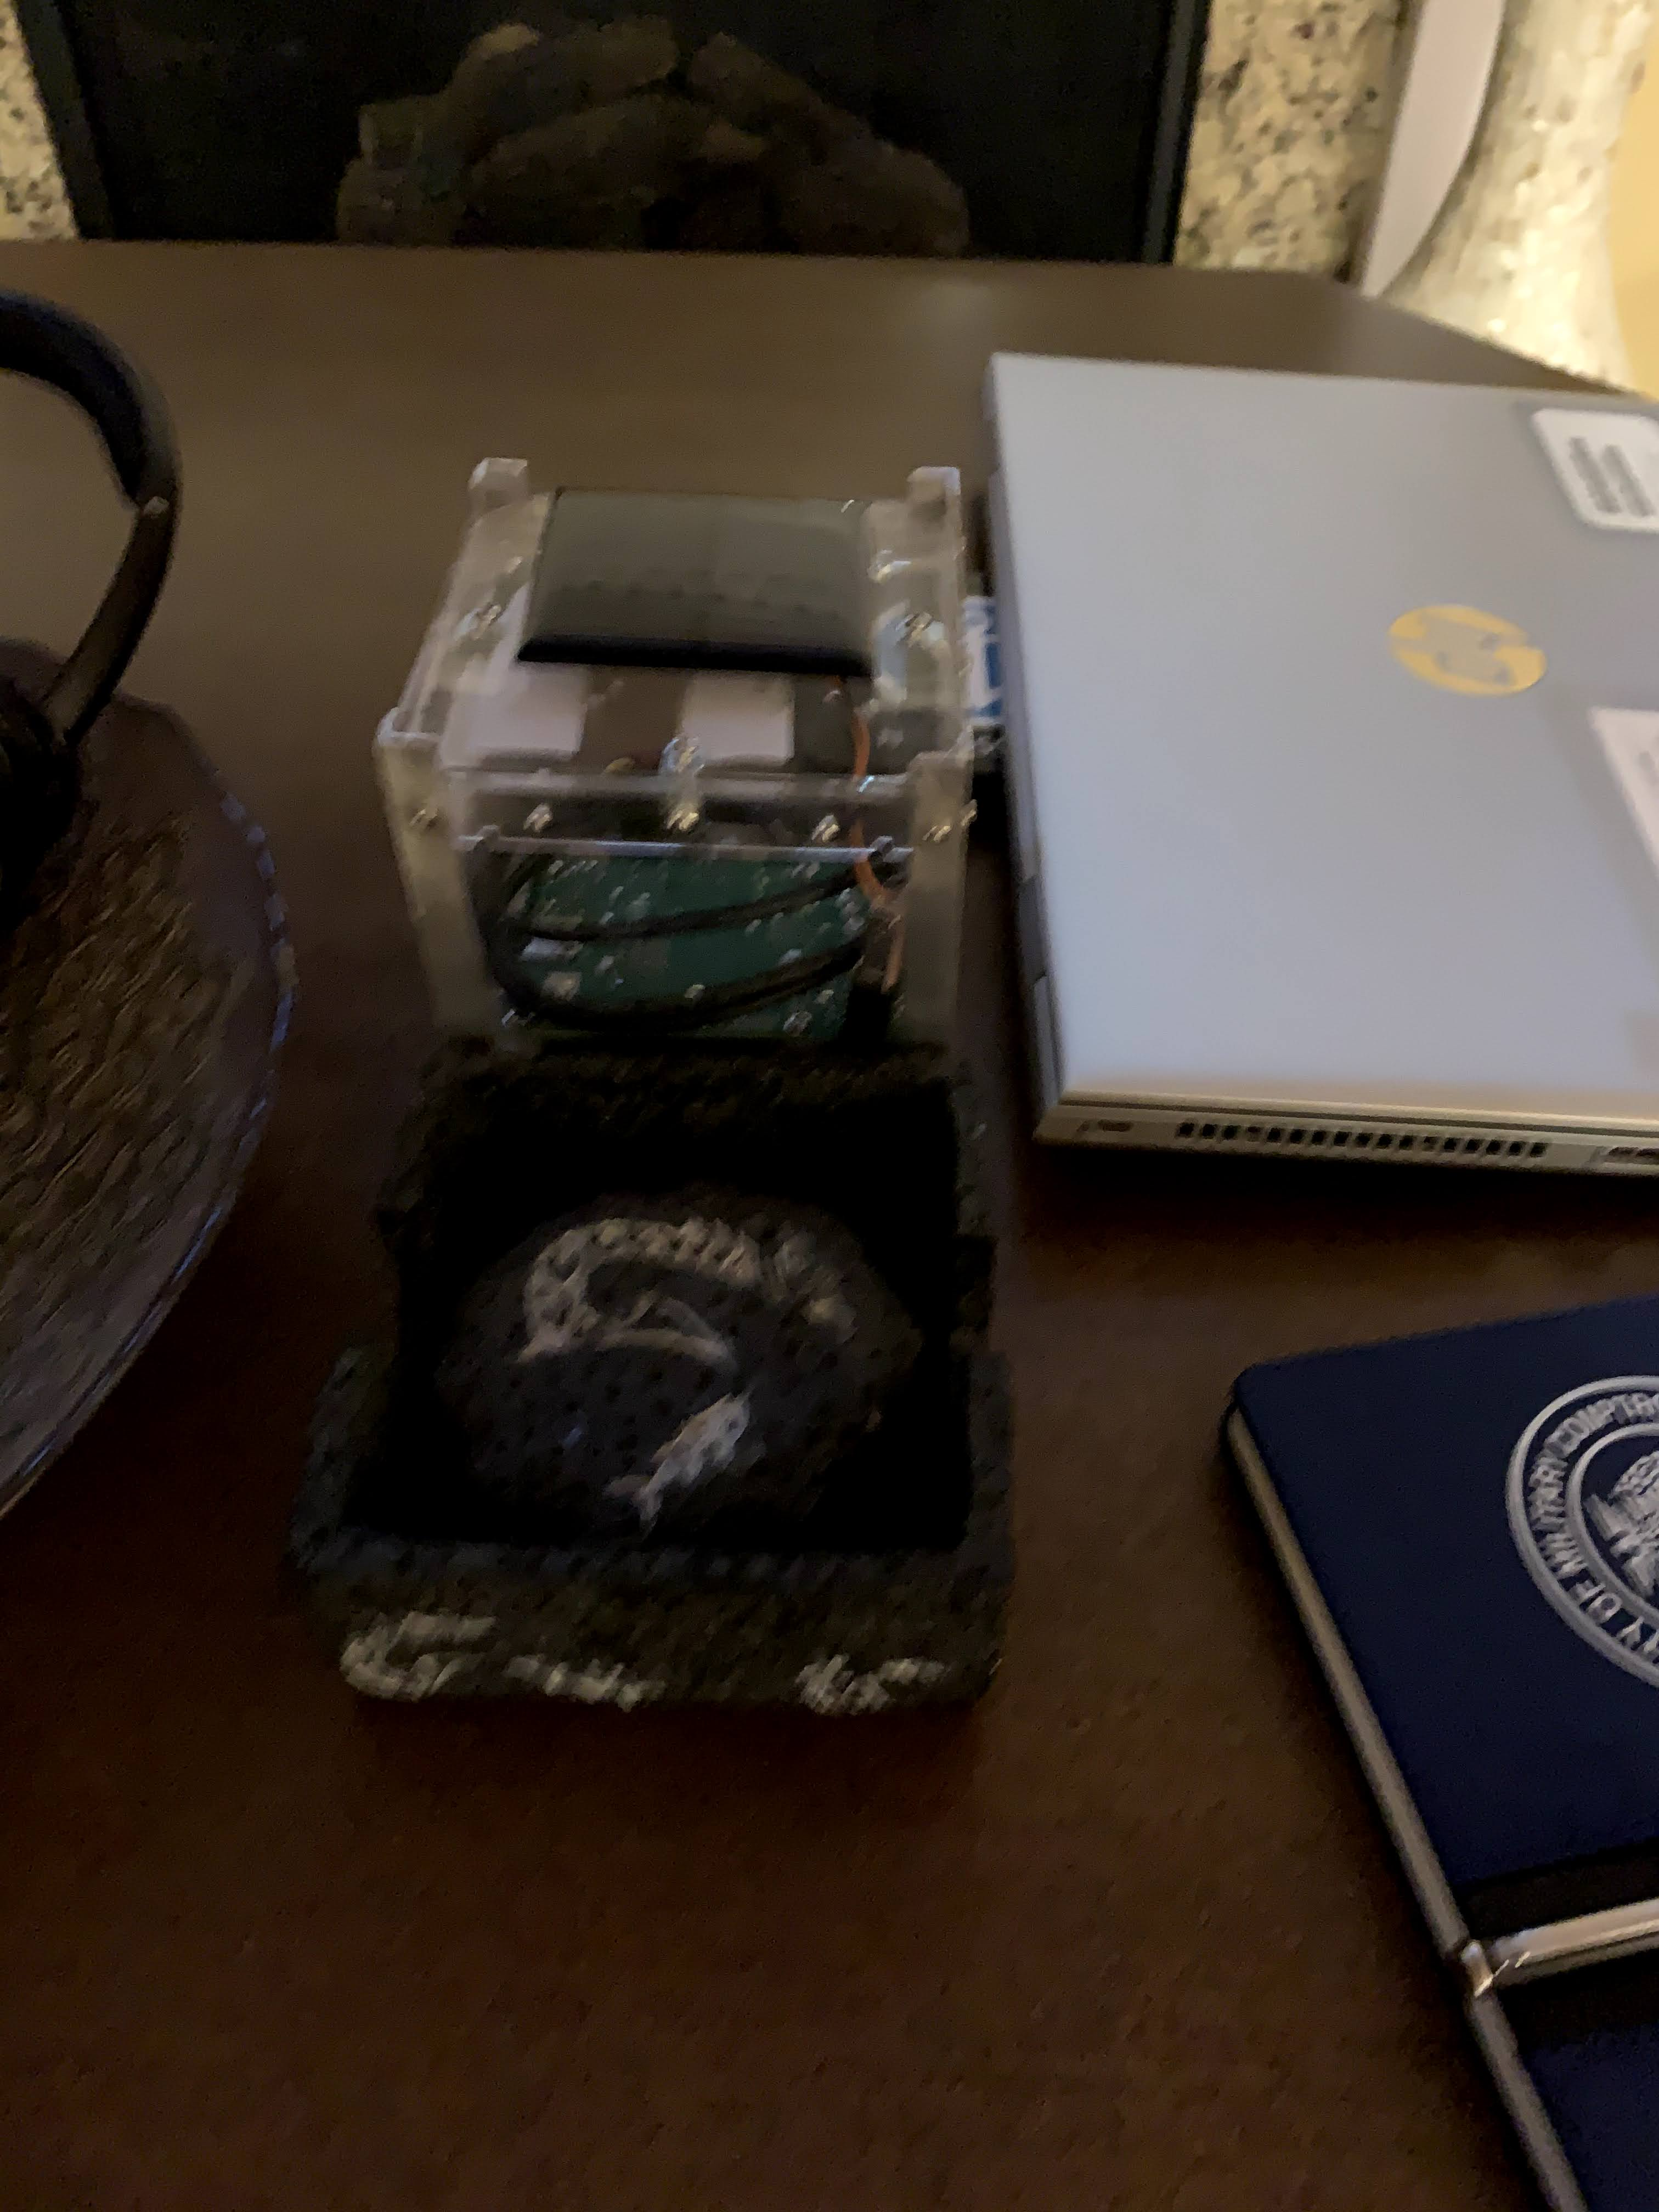Space-debris-cubesat: (380, 421, 993, 1047)
